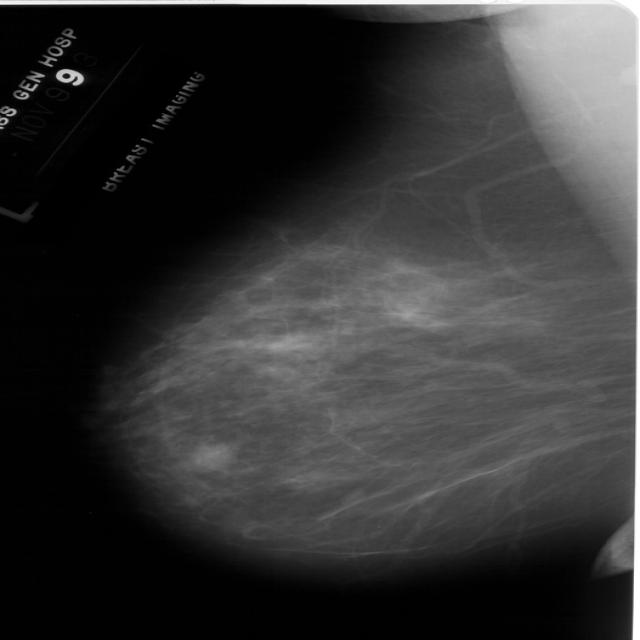tumour: (191, 441, 232, 470)
